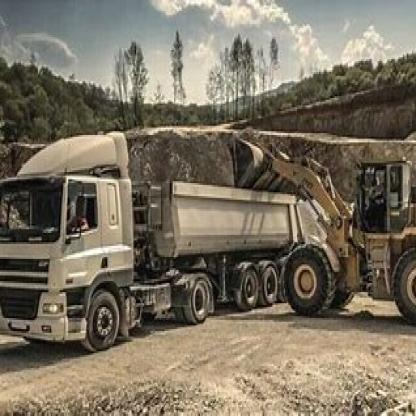dump_truck: (6, 127, 296, 357)
